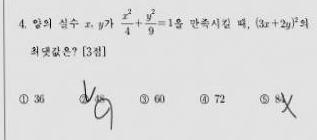choice: (77, 88, 92, 105)
not-choice: (17, 93, 30, 105), (138, 93, 150, 105), (258, 93, 270, 105), (198, 93, 210, 104)
